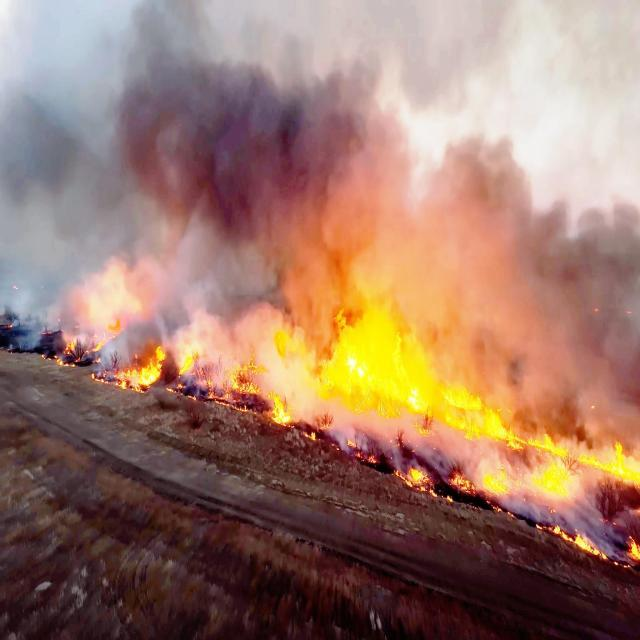Fire: (346, 340, 422, 414), (446, 382, 486, 436)
Smoke: (125, 30, 328, 269)
